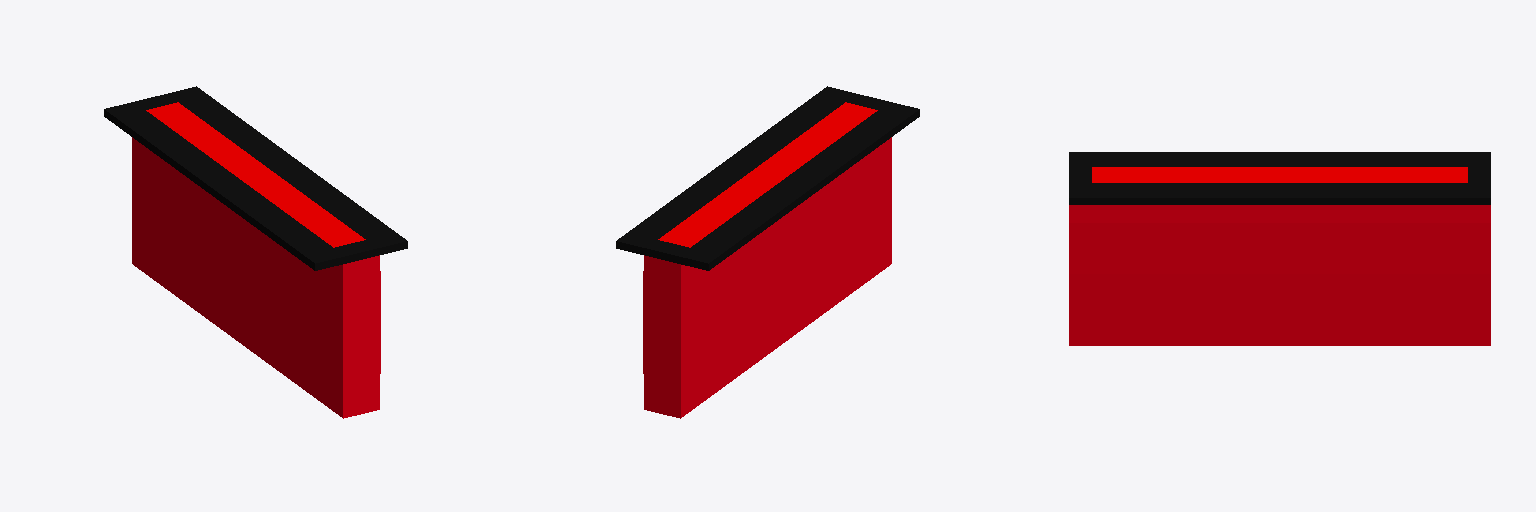
Rendered from basicBar.obj.
3 renders of one model, left to right at view 1: azimuth 30°, elevation 25°; view 2: azimuth 150°, elevation 25°; view 3: azimuth 270°, elevation 25°, orthographic.
Visible parts, largest first — view 1: LowWall1_Cube.002; view 2: LowWall1_Cube.002; view 3: LowWall1_Cube.002.
Part boxes in pixels (x1,y1,x2,y2): LowWall1_Cube.002: (104,86,407,418); LowWall1_Cube.002: (616,86,919,418); LowWall1_Cube.002: (1069,152,1490,345).
Bounding box in the file's own units: 0.2534 × 0.4229 × 1.